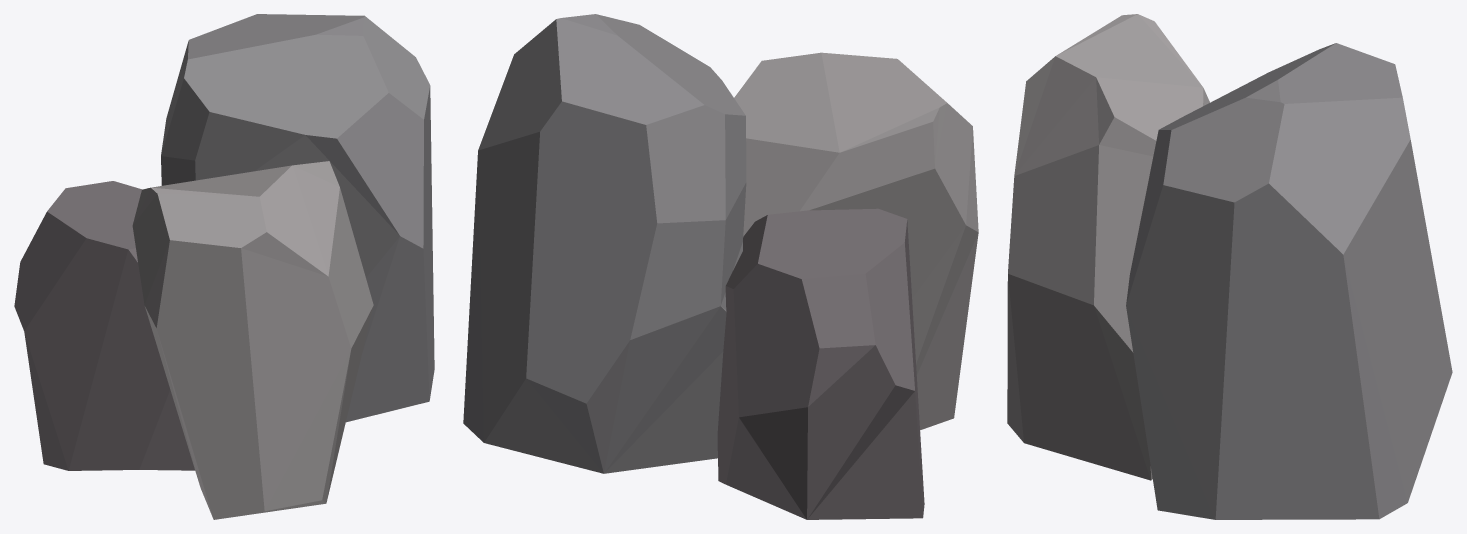
File: Rocks_Round_l_03.fbx
3 renders of one model, left to right at view 1: azimuth 30°, elevation 25°; view 2: azimuth 150°, elevation 25°; view 3: azimuth 270°, elevation 25°, orthographic. The views are drawn at different scales.
Visible parts, largest first — view 1: Rocks_Round_l_03; view 2: Rocks_Round_l_03; view 3: Rocks_Round_l_03.
Part boxes in pixels (x1=…): Rocks_Round_l_03: x1=14, y1=14, x2=434, y2=519; Rocks_Round_l_03: x1=463, y1=14, x2=978, y2=519; Rocks_Round_l_03: x1=1007, y1=14, x2=1452, y2=519.
Size of the model in its own units: 2.74 by 2.58 by 2.45.
